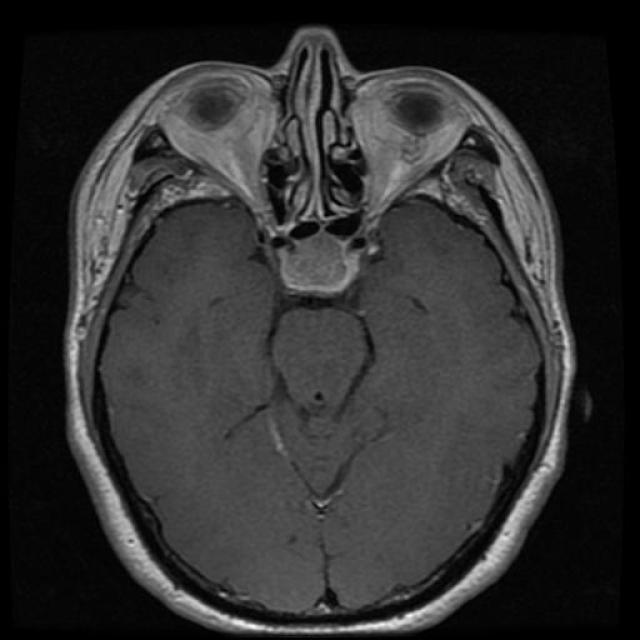pituitary: (254, 234, 394, 314)
